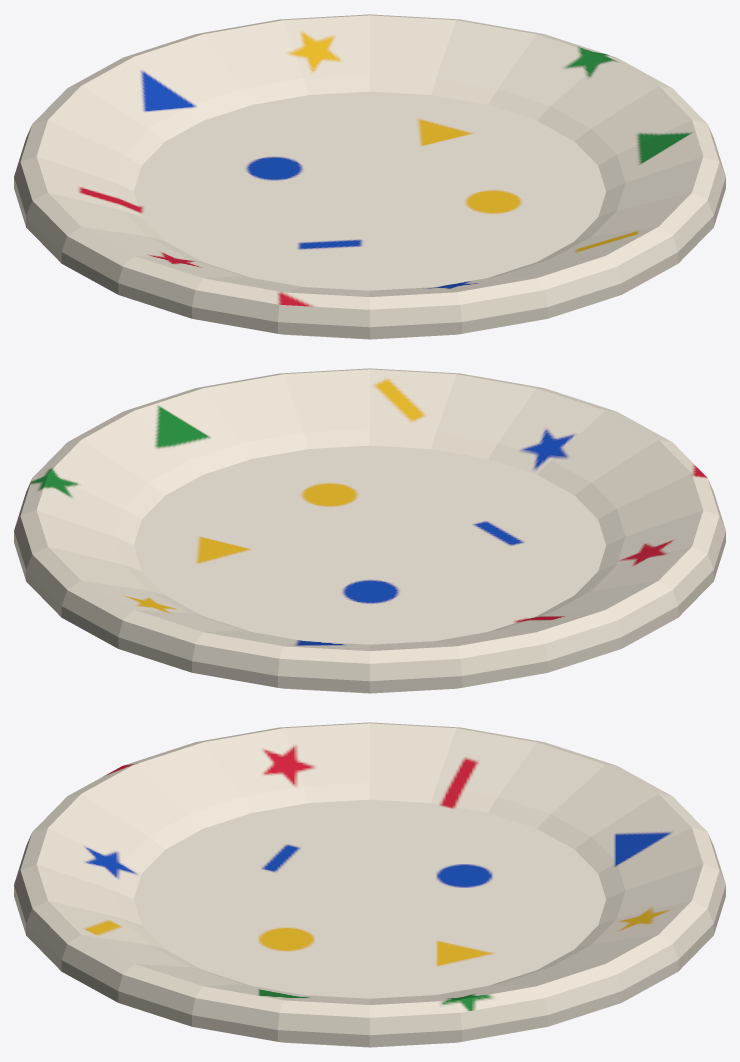
File: party_plate_confetti.glb
3 views of the same model, one above another, from view 1: azimuth 30°, elevation 25°; view 2: azimuth 150°, elevation 25°; view 3: azimuth 270°, elevation 25° (orthographic).
Parts seen in each view (by area): view 1: party_plate_confetti; view 2: party_plate_confetti; view 3: party_plate_confetti.
Part boxes in pixels (x1,y1,x2,y2): party_plate_confetti: (14,14,725,339); party_plate_confetti: (14,368,725,693); party_plate_confetti: (14,722,725,1047).
Bounding box in the file's own units: 0.22 × 0.016 × 0.22.
1 material, 1 textured.
